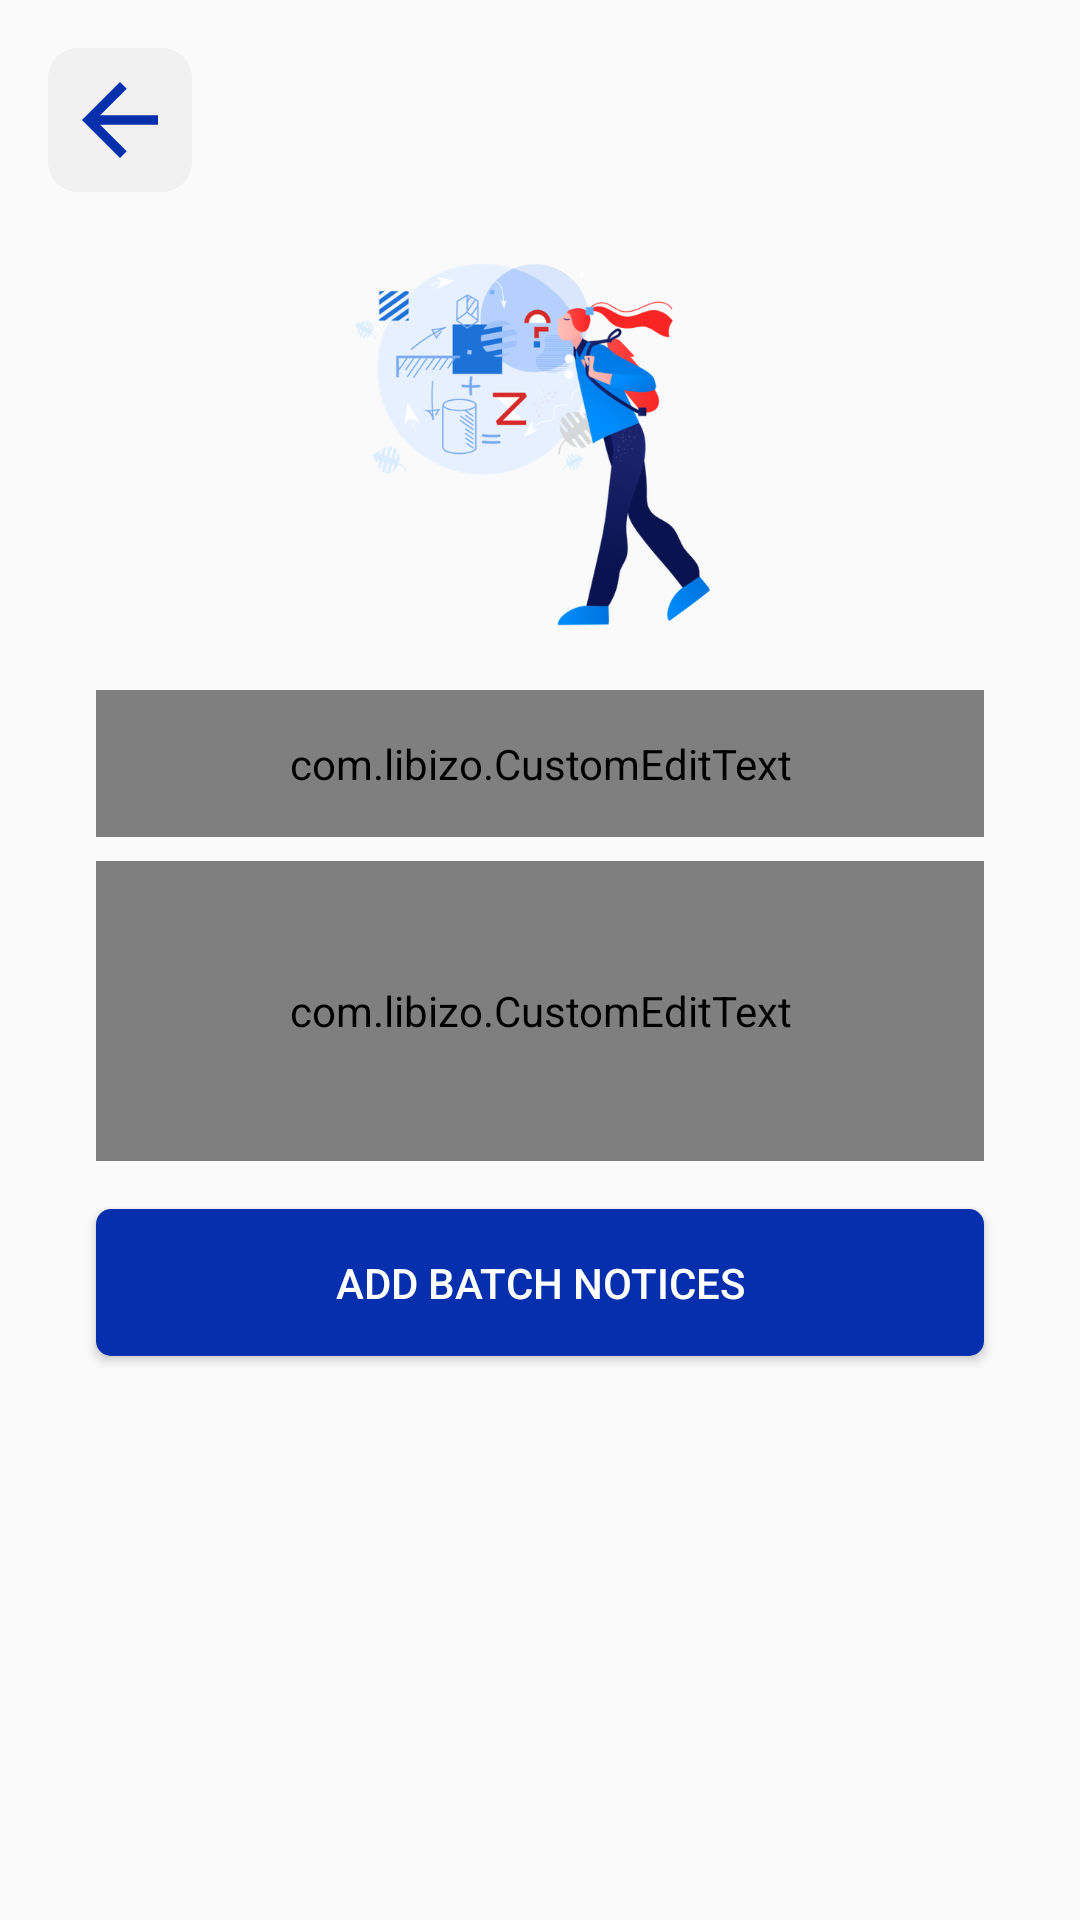

Where to tap for icons on this 1080×1920 app screen, as (x=x, y=y):
back: (x=120, y=120)
